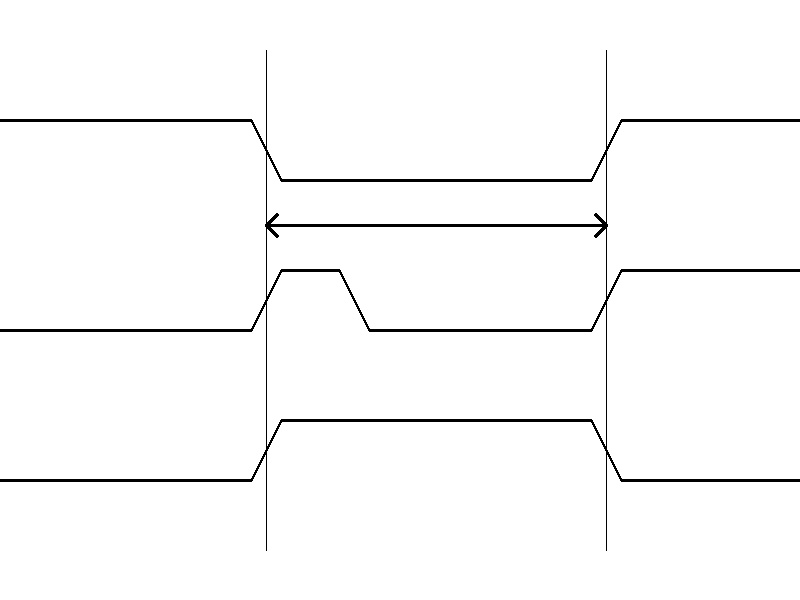double_arrow: (266, 210, 606, 240)
